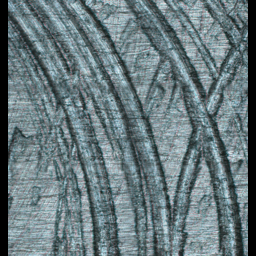d: (8, 1, 246, 256)
